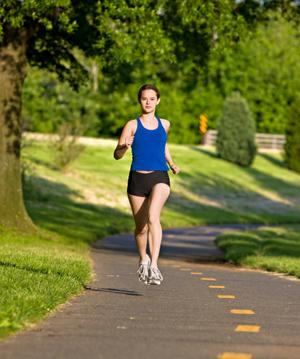person: (114, 84, 181, 289)
